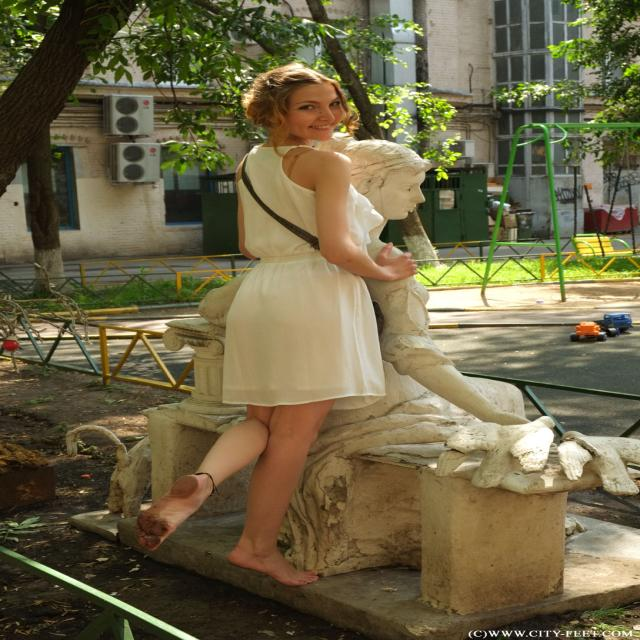No Safety Boots: (135, 474, 205, 551), (226, 545, 319, 586)
